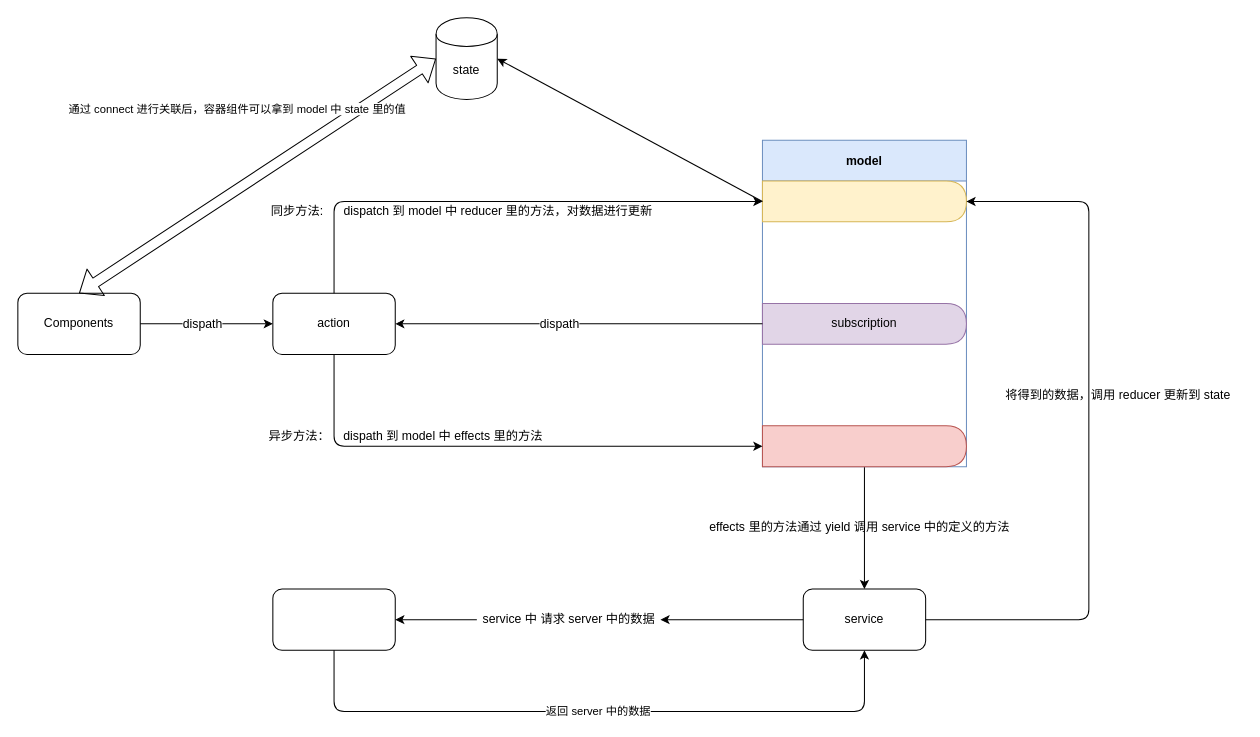
Image size: 1260x737. Some labels were removed from this diagram. The shapes that lost their labels are listed below. From the top down, each one's centre as x and y in pixels, then its label:
point (863, 201): reducer
point (863, 446): effect
point (333, 619): server
